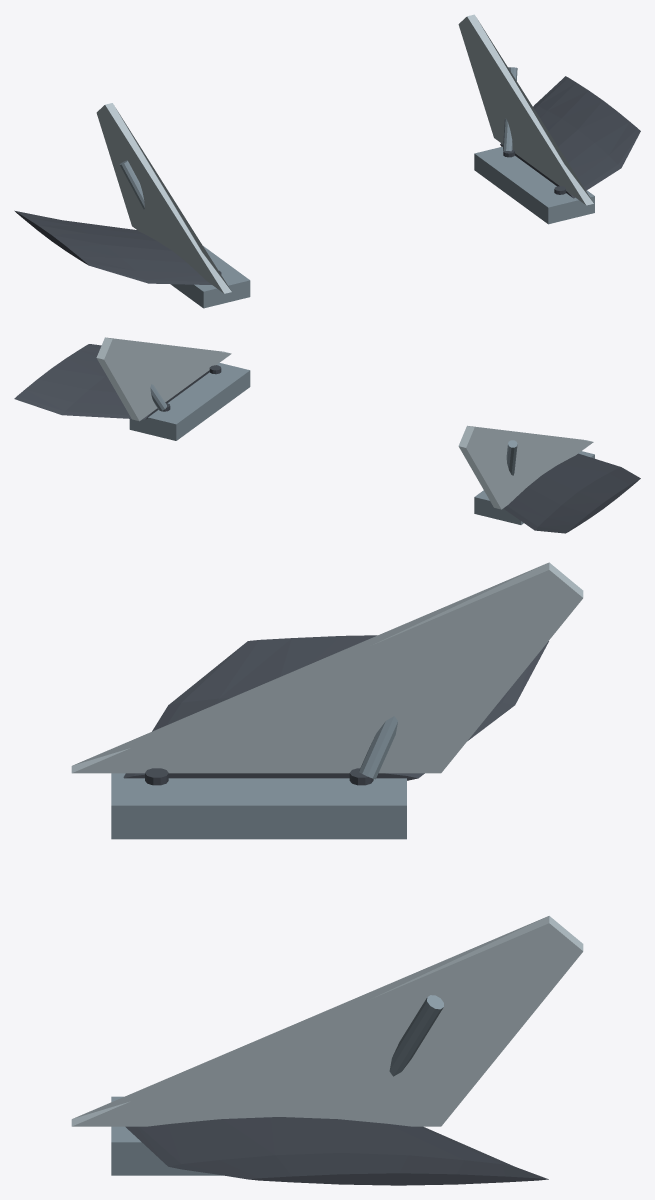
The model's file is fins_1_v2.glb.
3 views of the same model, one above another, from view 1: azimuth 30°, elevation 25°; view 2: azimuth 150°, elevation 25°; view 3: azimuth 270°, elevation 25° (orthographic). The views are drawn at different scales.
Parts seen in each view (by area): view 1: TAIL_STARBOARD_SWEPT_STABILIZER, TAIL_STARBOARD_LATERAL_VANE, TAIL_PORT_SWEPT_STABILIZER, TAIL_PORT_LATERAL_VANE, TAIL_STARBOARD_BOLTED_PEDESTAL, TAIL_PORT_BOLTED_PEDESTAL, TAIL_PORT_LOAD_BRACE; view 2: TAIL_PORT_LATERAL_VANE, TAIL_STARBOARD_SWEPT_STABILIZER, TAIL_PORT_SWEPT_STABILIZER, TAIL_STARBOARD_LATERAL_VANE, TAIL_STARBOARD_BOLTED_PEDESTAL, TAIL_PORT_BOLTED_PEDESTAL, TAIL_PORT_LOAD_BRACE; view 3: TAIL_PORT_SWEPT_STABILIZER, TAIL_STARBOARD_SWEPT_STABILIZER, TAIL_STARBOARD_LATERAL_VANE, TAIL_PORT_BOLTED_PEDESTAL, TAIL_PORT_LATERAL_VANE, TAIL_STARBOARD_BOLTED_PEDESTAL, TAIL_STARBOARD_LOAD_BRACE, TAIL_PORT_LOAD_BRACE.
Part boxes in pixels (bbox=[...]): TAIL_STARBOARD_SWEPT_STABILIZER: bbox=[458, 14, 593, 205]; TAIL_STARBOARD_LATERAL_VANE: bbox=[500, 76, 640, 198]; TAIL_PORT_SWEPT_STABILIZER: bbox=[96, 103, 231, 293]; TAIL_PORT_LATERAL_VANE: bbox=[14, 210, 211, 284]; TAIL_STARBOARD_BOLTED_PEDESTAL: bbox=[474, 146, 594, 224]; TAIL_PORT_BOLTED_PEDESTAL: bbox=[170, 246, 250, 308]; TAIL_PORT_LOAD_BRACE: bbox=[119, 160, 144, 209]; TAIL_PORT_LATERAL_VANE: bbox=[503, 453, 640, 533]; TAIL_STARBOARD_SWEPT_STABILIZER: bbox=[96, 337, 231, 421]; TAIL_PORT_SWEPT_STABILIZER: bbox=[458, 425, 593, 509]; TAIL_STARBOARD_LATERAL_VANE: bbox=[14, 344, 217, 419]; TAIL_STARBOARD_BOLTED_PEDESTAL: bbox=[129, 363, 250, 440]; TAIL_PORT_BOLTED_PEDESTAL: bbox=[474, 451, 594, 524]; TAIL_PORT_LOAD_BRACE: bbox=[506, 440, 517, 475]; TAIL_PORT_SWEPT_STABILIZER: bbox=[71, 562, 583, 773]; TAIL_STARBOARD_SWEPT_STABILIZER: bbox=[71, 916, 583, 1126]; TAIL_STARBOARD_LATERAL_VANE: bbox=[125, 1117, 548, 1185]; TAIL_PORT_BOLTED_PEDESTAL: bbox=[111, 773, 406, 839]; TAIL_PORT_LATERAL_VANE: bbox=[123, 635, 548, 780]; TAIL_STARBOARD_BOLTED_PEDESTAL: bbox=[111, 1096, 222, 1175]; TAIL_STARBOARD_LOAD_BRACE: bbox=[389, 995, 443, 1076]; TAIL_PORT_LOAD_BRACE: bbox=[359, 716, 397, 779].
Size of the model in its own units: 2.24 by 0.4695 by 0.9.
